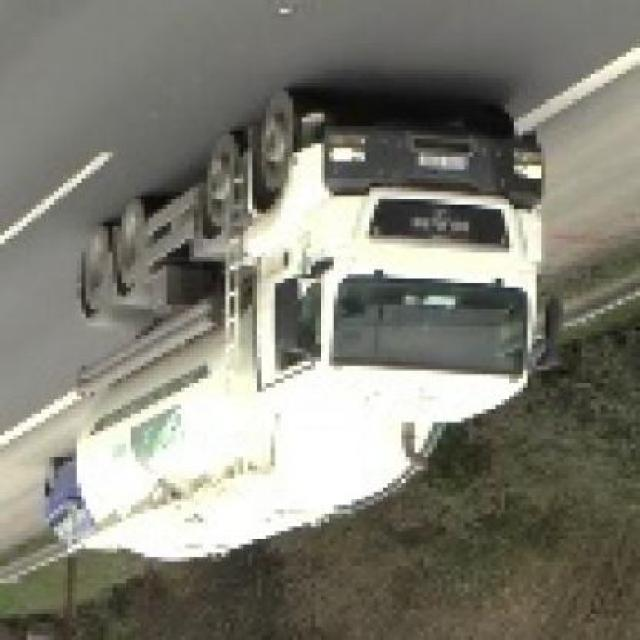truck: (55, 80, 564, 567)
